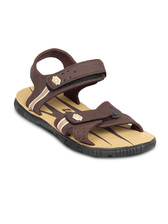shoes: (10, 45, 161, 162)
